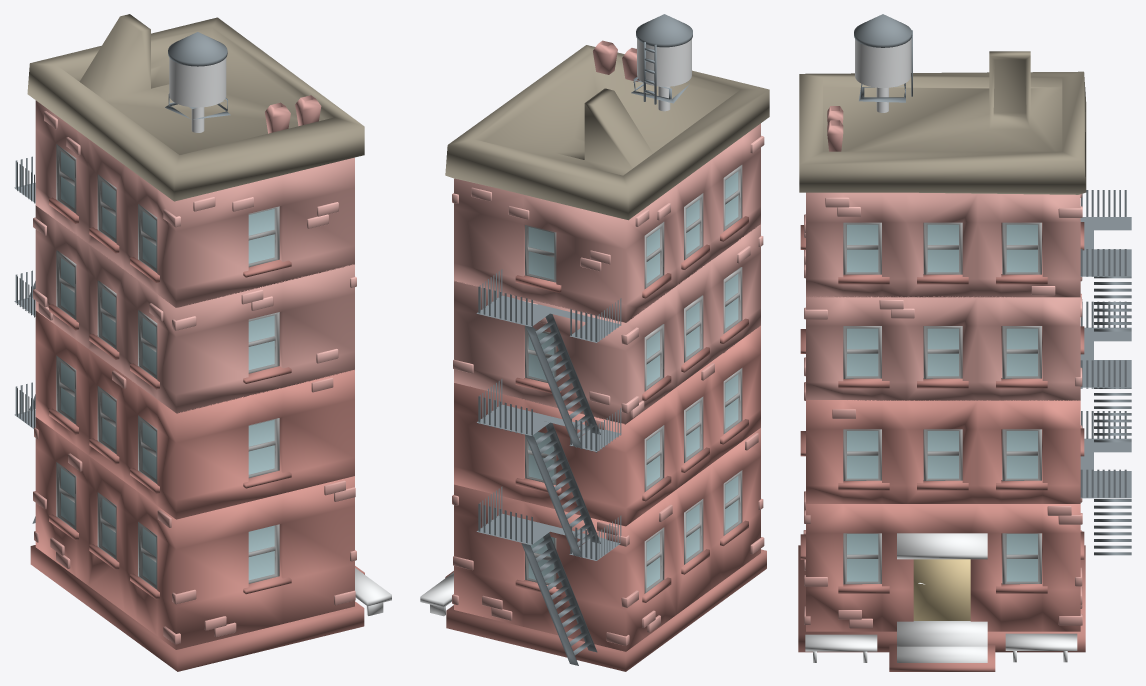
Rendered from brooklynBuilding.glb.
3 views of the same model, side by side, from view 1: azimuth 30°, elevation 25°; view 2: azimuth 150°, elevation 25°; view 3: azimuth 270°, elevation 25° (orthographic). The views are drawn at different scales.
Parts seen in each view (by area): view 1: brooklyn_building; view 2: brooklyn_building; view 3: brooklyn_building.
Part boxes in pixels (<box>): brooklyn_building: <box>14,14,391,671</box>; brooklyn_building: <box>420,14,769,671</box>; brooklyn_building: <box>798,14,1131,671</box>.
Size of the model in its own units: 16.97 by 40.63 by 21.16.
